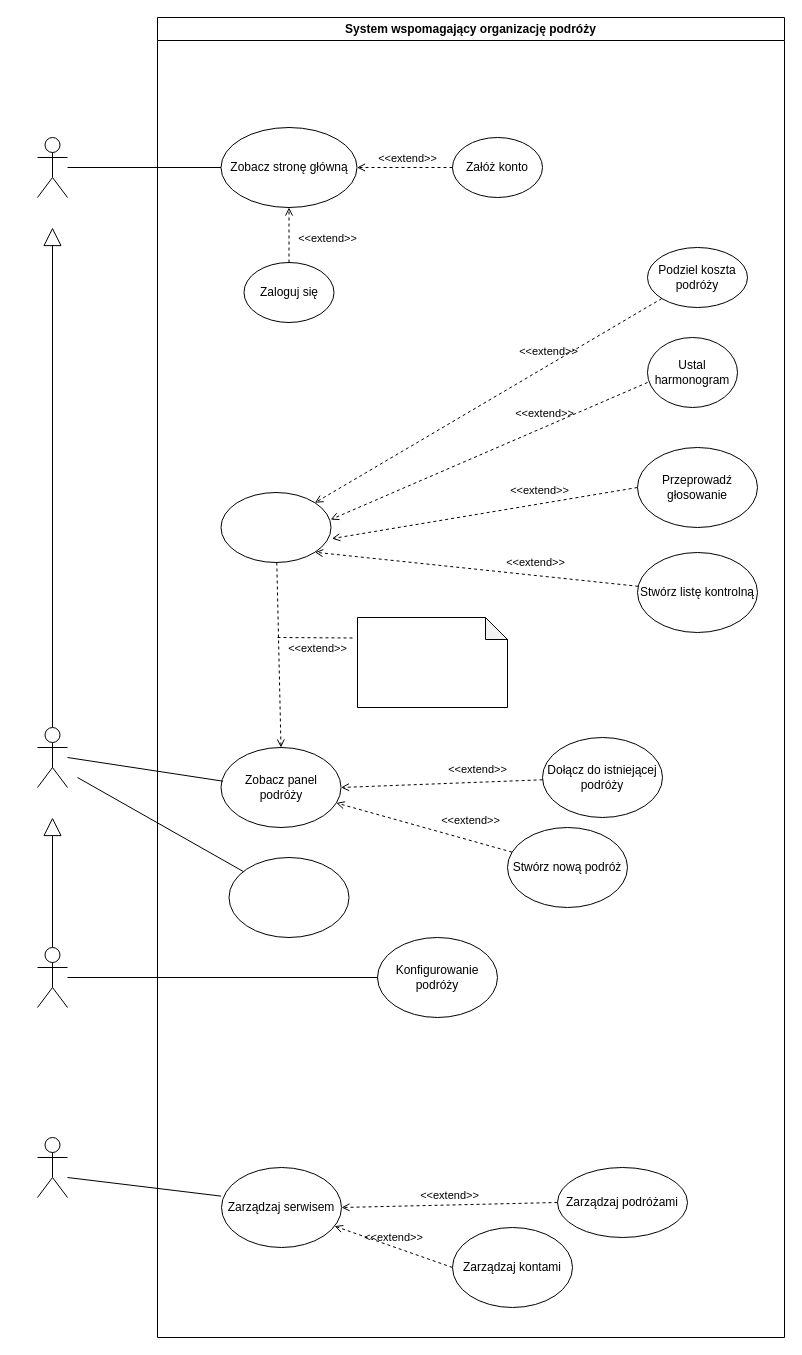
Some shapes in this 802 by 1355 pixel diagram are drawn without their labels. The shapes that lost their labels are listed below. From the top down, each one's box as (x1, y1, x2, y2) in pixels, then its label:
(36, 136, 68, 198): Gość
(220, 492, 331, 562): Skorzystaj z modułów podróży
(356, 616, 508, 708): warunek rozszerzenia: została stworzona przynajmniej jedna podróż
(36, 726, 68, 788): Użytkownik
(228, 856, 349, 938): Zmień ustawienia konta
(36, 946, 68, 1008): Organizator
(36, 1136, 68, 1198): Administrator
